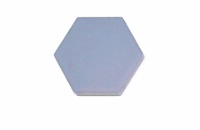grey_tile: (54, 17, 144, 96)
